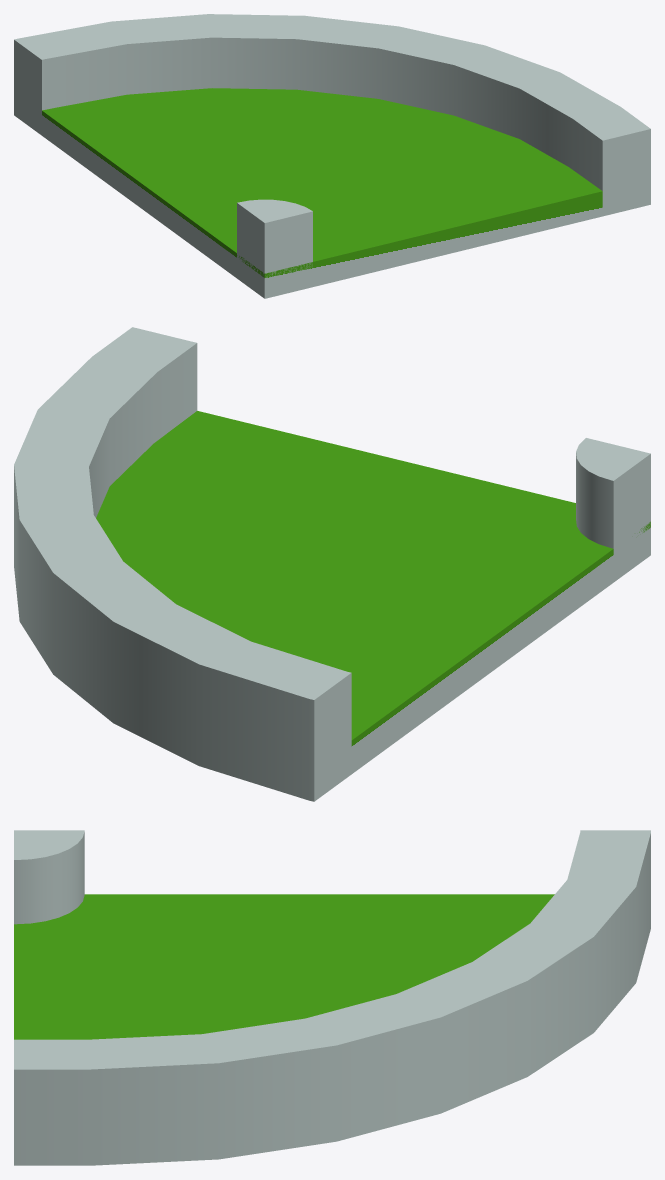
The model's file is Curva A.fbx.
3 views of the same model, one above another, from view 1: azimuth 30°, elevation 25°; view 2: azimuth 150°, elevation 25°; view 3: azimuth 270°, elevation 25° (orthographic). The views are drawn at different scales.
Parts seen in each view (by area): view 1: Curva A; view 2: Curva A; view 3: Curva A.
Part boxes in pixels (<box>): Curva A: <box>14,14,650,298</box>; Curva A: <box>14,327,650,801</box>; Curva A: <box>14,830,650,1165</box>.
Size of the model in its own units: 80 by 15 by 90.
Materials: 1 (1 with a texture image).
